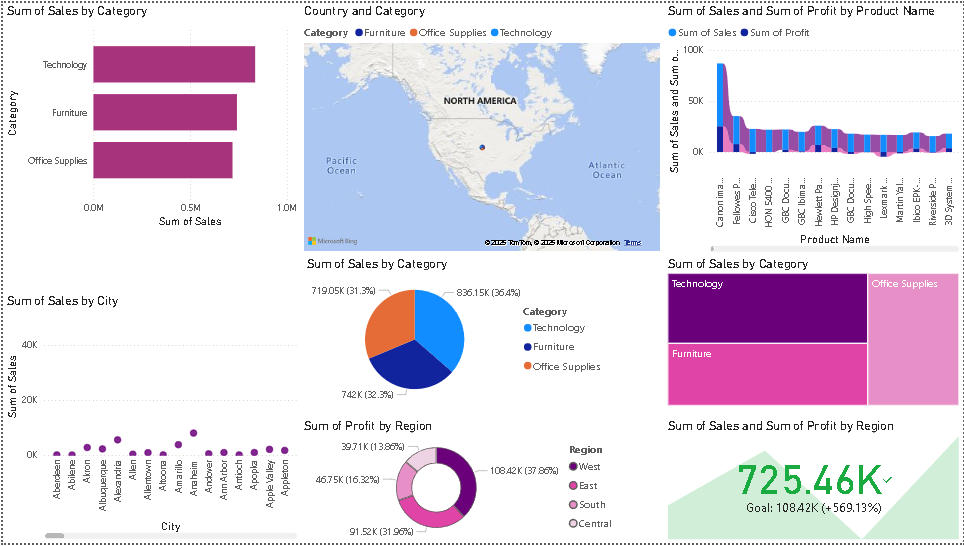

This screenshot's page, from the dashboard's own definition file:
{"tool":"powerbi","page":{"name":"Page 1","canvas":[1280,720],"ordinal":0},"visuals":[{"type":"barChart","fields":{"Category":["Orders.Category"],"Y":["Sum(Orders.Sales)"]},"box":[0,0,396.7,305],"z":0},{"type":"pieChart","fields":{"Y":["Sum(Orders.Sales)"],"Category":["Orders.Category"]},"box":[400,336.7,408.3,205],"z":1000},{"type":"donutChart","fields":{"Category":["Orders.Region"],"Y":["Sum(Orders.Profit)"]},"box":[396.7,553.3,426.7,166.7],"z":2000},{"type":"map","fields":{"Category":["Orders.Country"],"Series":["Orders.Category"]},"box":[396.7,0,485,336.7],"z":3000},{"type":"ribbonChart","fields":{"Y":["Sum(Orders.Sales)","Sum(Orders.Profit)"],"Category":["Orders.Product Name"]},"box":[881.7,0,398.3,336.7],"z":4000},{"type":"scatterChart","fields":{"X":["Orders.City"],"Y":["Sum(Orders.Sales)"]},"box":[0,387,397,333],"z":5000},{"type":"treemap","fields":{"Values":["Sum(Orders.Sales)"],"Group":["Orders.Category"]},"box":[882,337,398,205],"z":6000},{"type":"kpi","fields":{"Indicator":["Sum(Orders.Sales)"],"TrendLine":["Orders.Region"],"Goal":["Sum(Orders.Profit)"]},"box":[882,553,398,167],"z":7000}]}

Visuals, with their boxes in screenshot pixels (x1, y1, x2, y2), scaled from the page's 1280x720 canvas onto the 964x546 screenshot:
barChart - Orders.Category x Sum(Orders.Sales): [0, 0, 299, 231]
pieChart - Sum(Orders.Sales) x Orders.Category: [301, 255, 609, 411]
donutChart - Orders.Region x Sum(Orders.Profit): [299, 420, 620, 545]
map - Orders.Country x Orders.Category: [299, 0, 664, 255]
ribbonChart - Sum(Orders.Sales) x Sum(Orders.Profit): [664, 0, 963, 255]
scatterChart - Orders.City x Sum(Orders.Sales): [0, 293, 299, 545]
treemap - Sum(Orders.Sales) x Orders.Category: [664, 256, 963, 411]
kpi - Sum(Orders.Sales) x Orders.Region: [664, 419, 963, 545]
